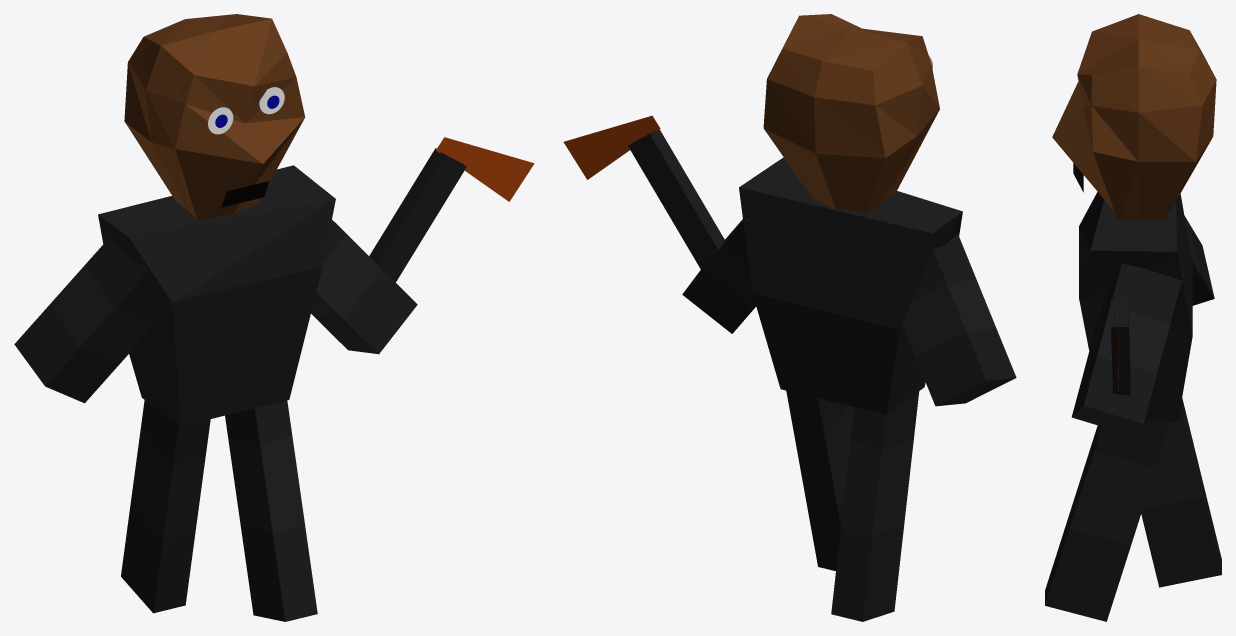
Rendered from axeman2.obj.
3 views of the same model, side by side, from view 1: azimuth 30°, elevation 25°; view 2: azimuth 150°, elevation 25°; view 3: azimuth 270°, elevation 25° (orthographic). The views are drawn at different scales.
Visible parts, largest first — view 1: Cube.001, Cube, Cube.005, Cube.003, Cube.004, Cube.002, Cube.007, Plane.001; view 2: Cube.001, Cube, Cube.004, Cube.003, Cube.005, Cube.007, Cube.002, Plane.001; view 3: Cube, Cube.005, Cube.001, Cube.002, Cube.004, Cube.007, Cube.003.
Part boxes in pixels (x1,y1,x2,y2): Cube.001: (98, 165, 335, 426); Cube: (124, 14, 304, 219); Cube.005: (225, 400, 317, 621); Cube.003: (14, 238, 152, 403); Cube.004: (121, 400, 210, 613); Cube.002: (311, 220, 417, 354); Cube.007: (369, 148, 466, 282); Plane.001: (436, 137, 534, 201); Cube.001: (739, 157, 962, 414); Cube: (763, 14, 939, 212); Cube.004: (831, 391, 919, 621); Cube.003: (902, 234, 1016, 406); Cube.005: (786, 390, 854, 571); Cube.007: (628, 129, 725, 270); Cube.002: (682, 219, 756, 333); Plane.001: (563, 115, 660, 179); Cube: (1052, 14, 1216, 220); Cube.005: (1045, 421, 1170, 621); Cube.001: (1079, 192, 1192, 420); Cube.002: (1071, 263, 1183, 435); Cube.004: (1141, 398, 1221, 587); Cube.007: (1110, 299, 1130, 395); Cube.003: (1184, 215, 1214, 305).
Bounding box in the file's own units: 5.1 × 5.9 × 1.69.
